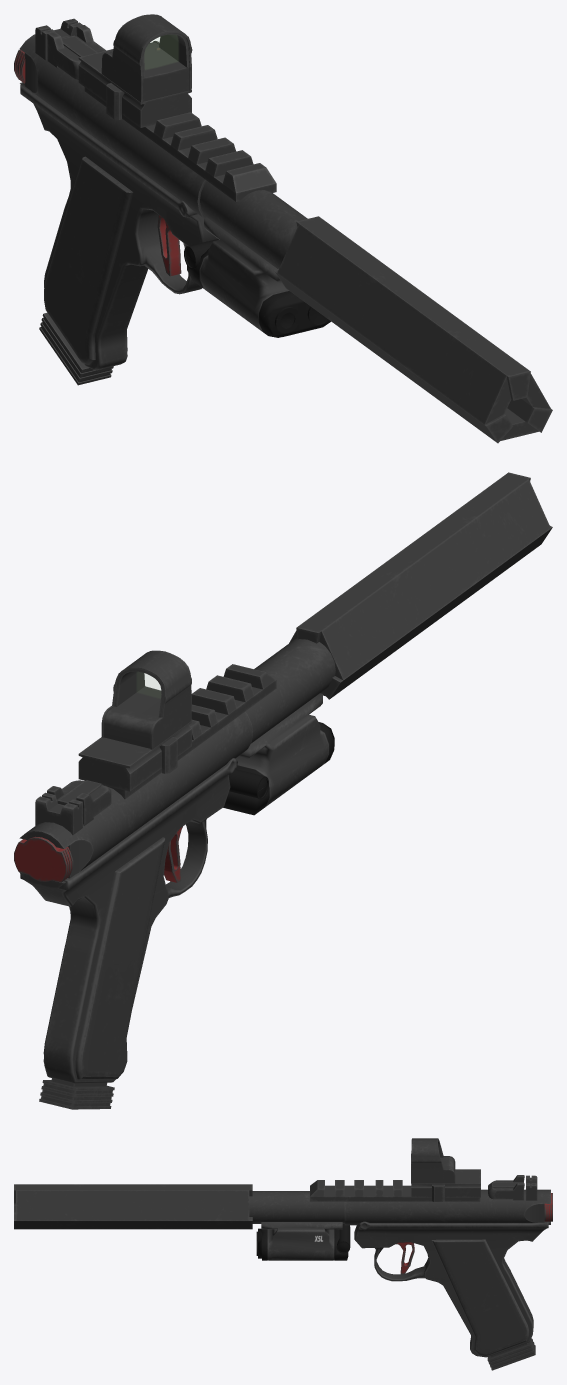
Rendered from reddotgun.glb.
The picture shows the model from 3 angles, top to bottom: view 1: azimuth 30°, elevation 25°; view 2: azimuth 150°, elevation 25°; view 3: azimuth 270°, elevation 25°; orthographic projection. The views are drawn at different scales.
Visible parts, largest first — view 1: pCylinder8, pCube1, pCylinder6, pCube14, pCube13, pCube10, pCube4, pCube11, pCube5, pCube15, pCube7, pCube12 (+2 smaller); view 2: pCylinder8, pCube1, pCylinder6, pCube14, pCube10, pCube13, pCube11, pCube4, pCylinder7, pCube15, pCube5, pCube6 (+1 smaller); view 3: pCylinder8, pCylinder6, pCube1, pCube16, pCube13, pCube4, pCube10, pCube11, pCube5, pCube15, pCylinder11, pCube6.
Part boxes in pixels (box(x1,y1,x2,y2)): pCylinder8: box(274, 216, 552, 443); pCube1: box(20, 83, 217, 370); pCylinder6: box(19, 34, 307, 268); pCube14: box(44, 156, 133, 365); pCube13: box(187, 217, 330, 337); pCube10: box(101, 14, 192, 102); pCube4: box(84, 87, 276, 201); pCube11: box(78, 49, 191, 127); pCube5: box(47, 25, 106, 79); pCube15: box(39, 312, 113, 385); pCube7: box(157, 215, 181, 276); pCube12: box(145, 35, 177, 68); pCylinder8: box(289, 472, 552, 699); pCube1: box(20, 758, 237, 1083); pCylinder6: box(19, 638, 335, 888); pCube14: box(75, 837, 164, 1079); pCube10: box(101, 650, 191, 749); pCube13: box(223, 693, 334, 815); pCube11: box(78, 721, 191, 791); pCube4: box(104, 664, 276, 799); pCylinder7: box(14, 836, 73, 882); pCube15: box(39, 1078, 114, 1109); pCube5: box(47, 780, 111, 825); pCube6: box(35, 792, 82, 834); pCylinder8: box(14, 1184, 252, 1229); pCylinder6: box(249, 1189, 550, 1225); pCube1: box(354, 1221, 548, 1357); pCube16: box(431, 1239, 529, 1356); pCube13: box(258, 1222, 348, 1260); pCube4: box(310, 1180, 480, 1201); pCube10: box(411, 1138, 455, 1183); pCube11: box(411, 1169, 480, 1201); pCube5: box(488, 1175, 524, 1200); pCube15: box(487, 1338, 535, 1370); pCylinder11: box(336, 1224, 350, 1253); pCube6: box(526, 1175, 537, 1200).
Size of the model in its own units: 2.01 by 10.44 by 22.6.
Materials: 1 (1 with a texture image).
